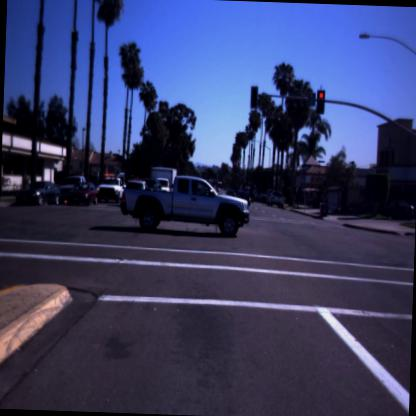trafficlight: (312, 84, 330, 122), (247, 84, 262, 112)
